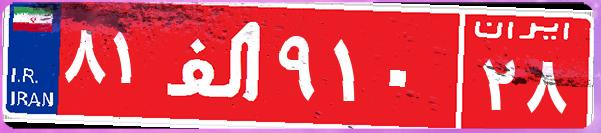0: (385, 28, 445, 110)
1: (330, 28, 385, 110), (110, 28, 158, 105)
2: (475, 38, 525, 113)
8: (57, 26, 110, 107), (525, 38, 570, 115)
9: (273, 28, 330, 110)
الف: (158, 15, 273, 115)
